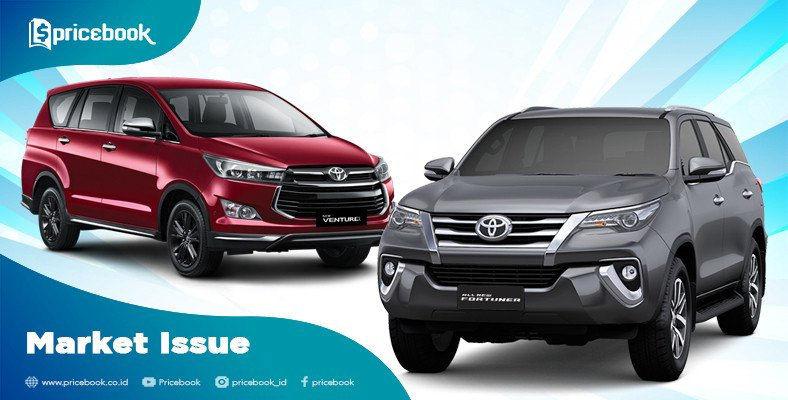mobil: (374, 104, 773, 400), (29, 74, 397, 293)
